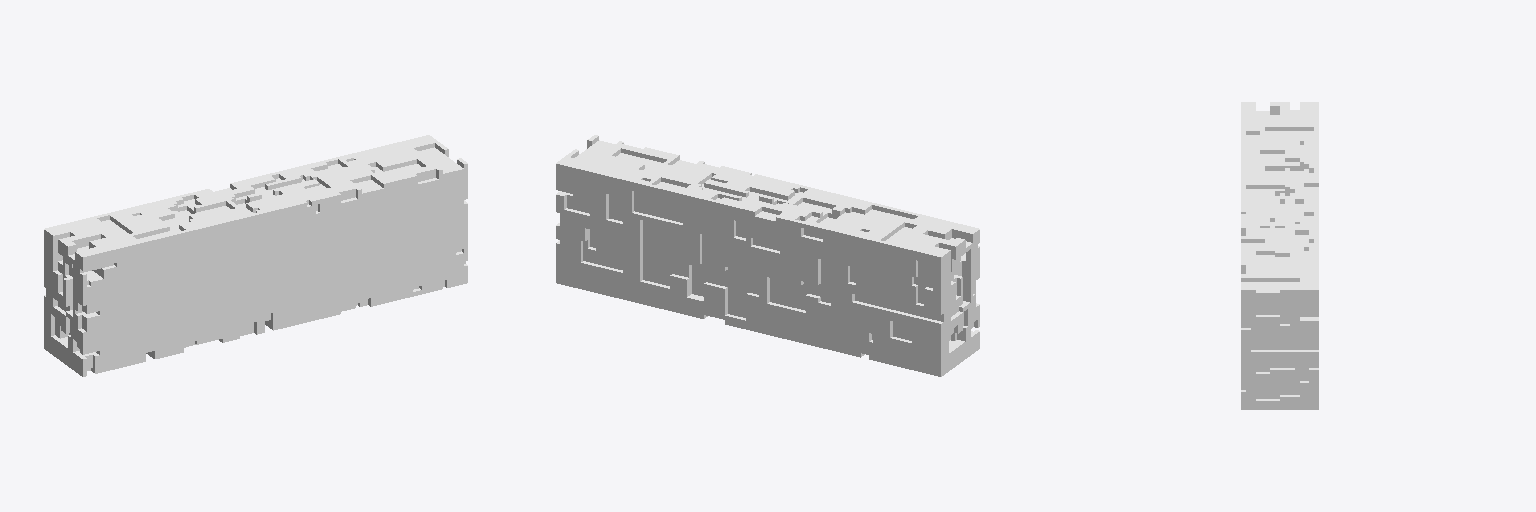
File: rectangulo-1.obj
3 renders of one model, left to right at view 1: azimuth 30°, elevation 25°; view 2: azimuth 150°, elevation 25°; view 3: azimuth 270°, elevation 25°, orthographic.
Visible parts, largest first — view 1: object 1; view 2: object 1; view 3: object 1.
Boxes of the visible parts, x1=… form: object 1: x1=44, y1=135, x2=467, y2=376; object 1: x1=556, y1=135, x2=979, y2=376; object 1: x1=1241, y1=102, x2=1318, y2=409.
Bounding box in the file's own units: 9.1 × 2.7 × 1.6.